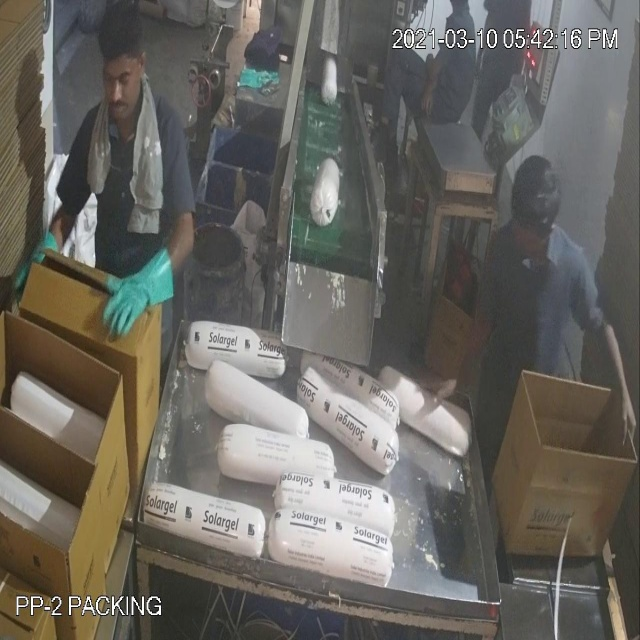Guantes: (99, 244, 181, 351)
Sin_guantes: (417, 280, 504, 438), (597, 305, 640, 457), (408, 50, 459, 146)
